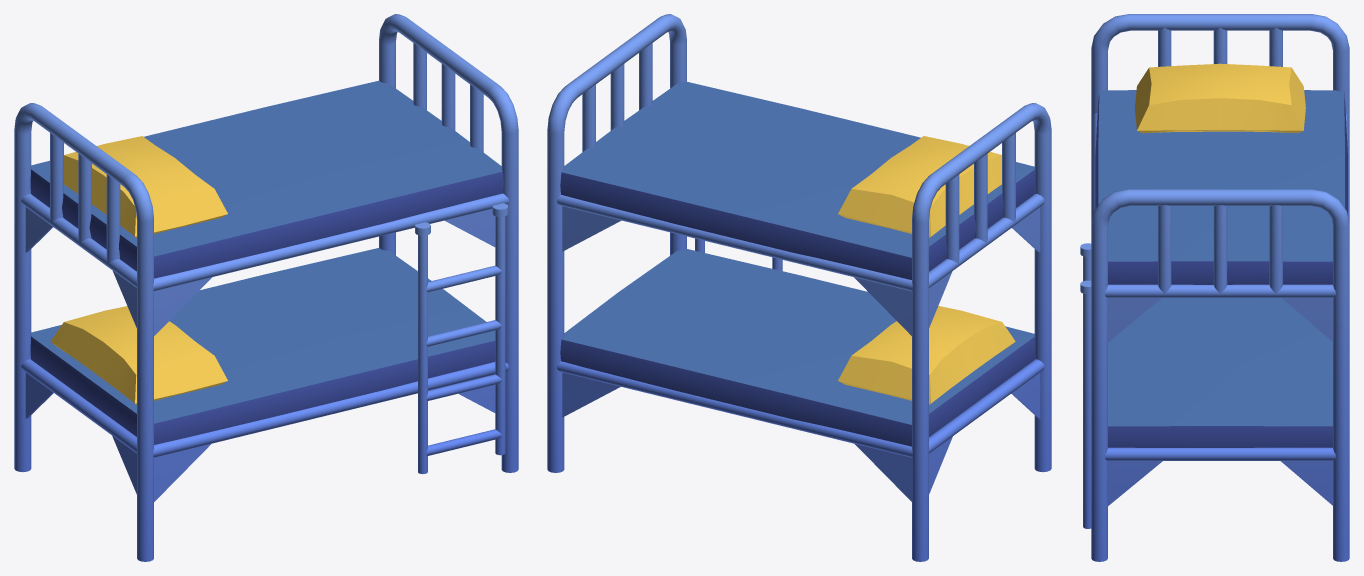
Rendered from bed.fbx.
The picture shows the model from 3 angles, left to right: view 1: azimuth 30°, elevation 25°; view 2: azimuth 150°, elevation 25°; view 3: azimuth 270°, elevation 25°; orthographic projection.
Visible parts, largest first — view 1: bed; view 2: bed; view 3: bed.
Part boxes in pixels (x1,y1,x2,y2): bed: (14,14,518,561); bed: (547,14,1051,561); bed: (1080,14,1349,561).
Size of the model in its own units: 257 by 242 by 161.
1 material, 1 textured.
